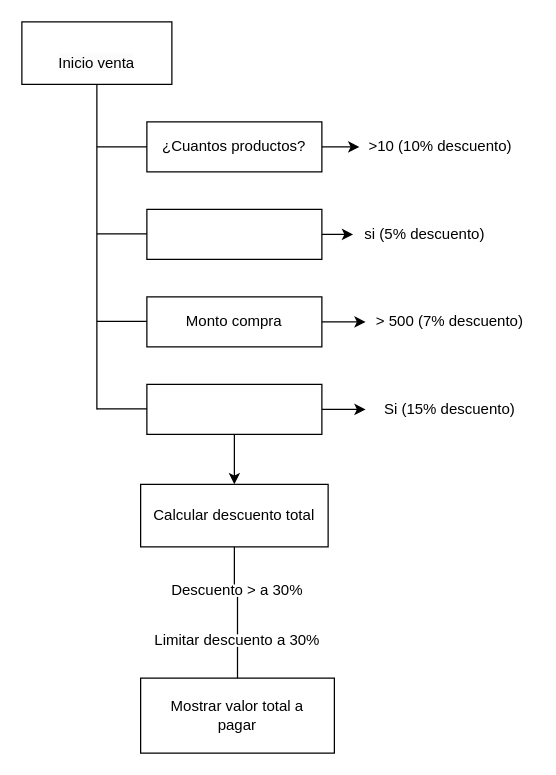
Image size: 556x775. Some labels were removed from this diagram. The shapes that lost their labels are listed below. From the top down, each one's centre as x and y in pixels, then its label:
[234,233]: ¿Cliente frecuente?
[234,408]: Dia promoción
